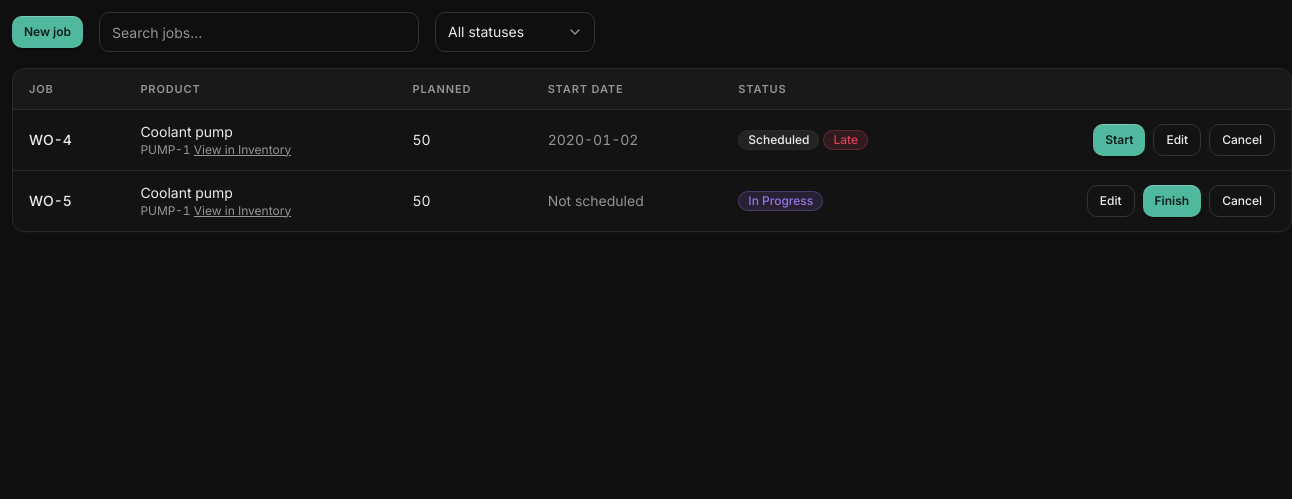
Test: JobsPanel › cancels a job after confirmation, and Never mind does nothing
expect the text "WO-4" is shown: met, box [13,109,124,170]
What coordinates should you click on to do the following:
click the button "Cancel" in the row of "2020-01-02"
I would click on:
 (1242, 140)
Its box is [1209,124,1275,156].
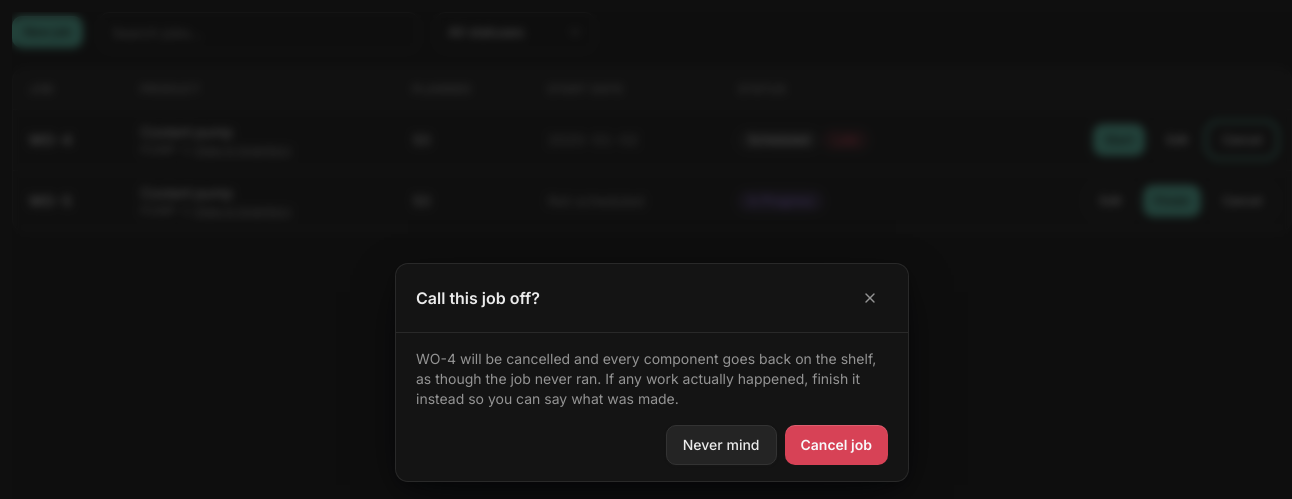
expect the text "WO-4 will be cancelled" is shown: met, box [416,348,888,408]
What coordinates should you click on to do the following:
click the button "Never mind"
I would click on:
 (721, 444)
Its box is [666,424,776,464].
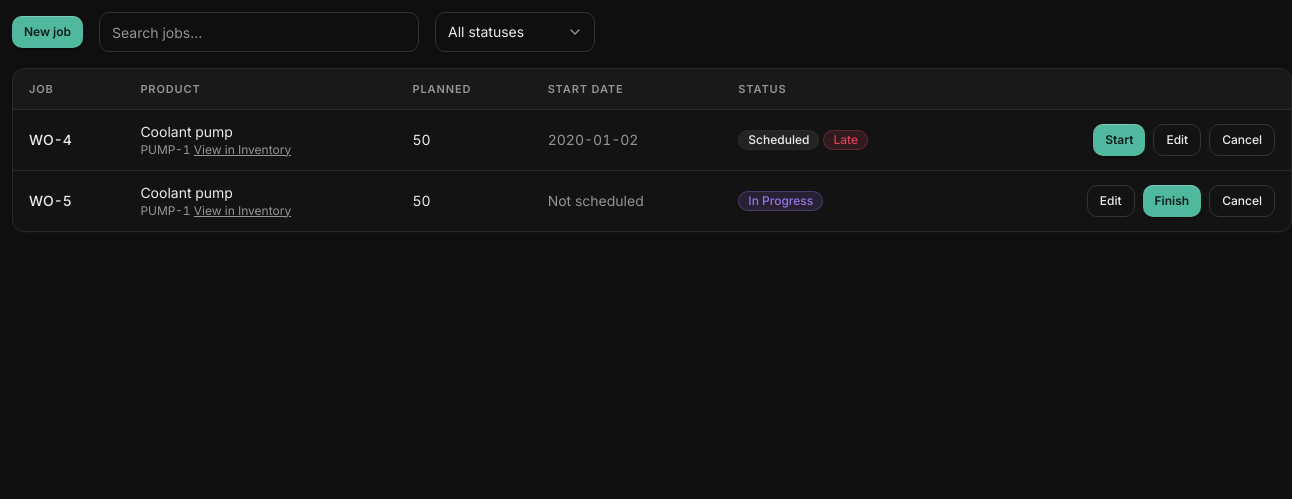
expect the text "WO-4 will be cancelled" is gone: met
What coordinates should you click on to do the following:
click the button "Cancel" in the row of "2020-01-02"
I would click on:
 (1242, 140)
Its box is [1209,124,1275,156].
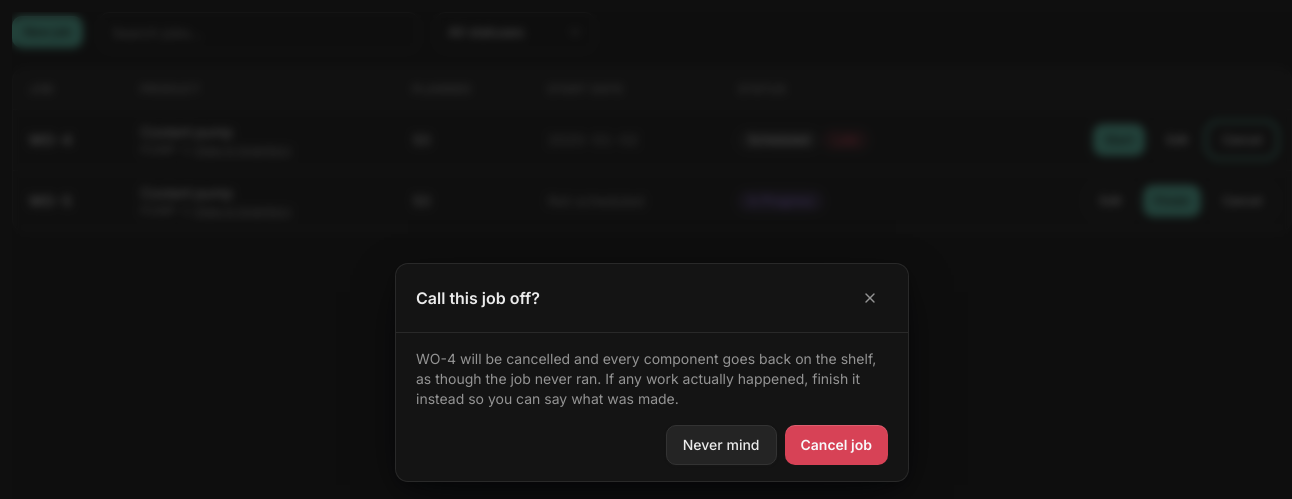
What coordinates should you click on to do the following:
click the button "Cancel job"
I would click on:
 (836, 444)
Its box is [784,424,888,464].
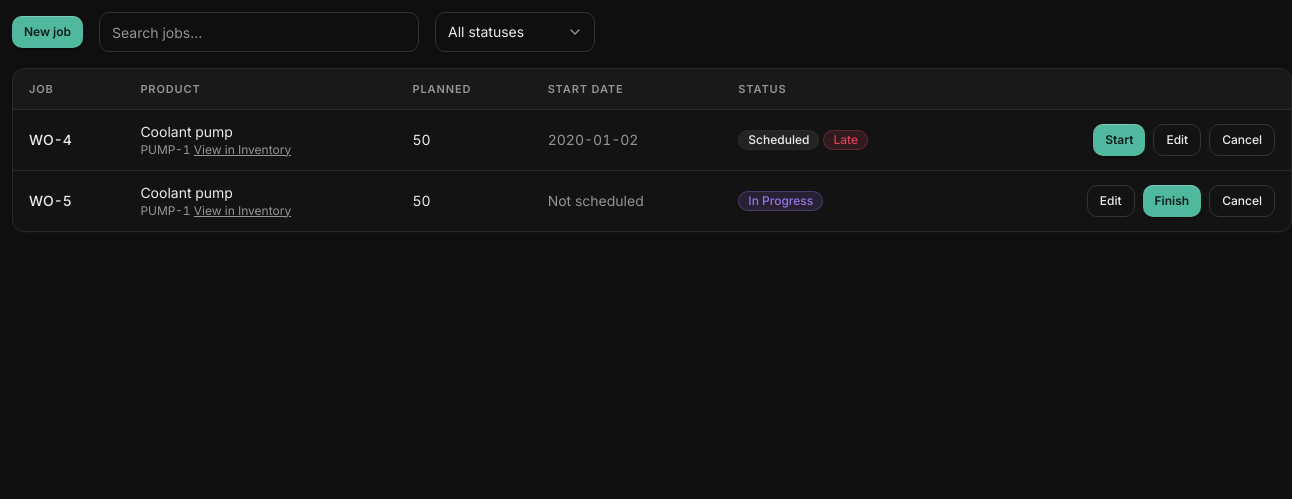
expect the text "WO-4 will be cancelled" is gone: met
